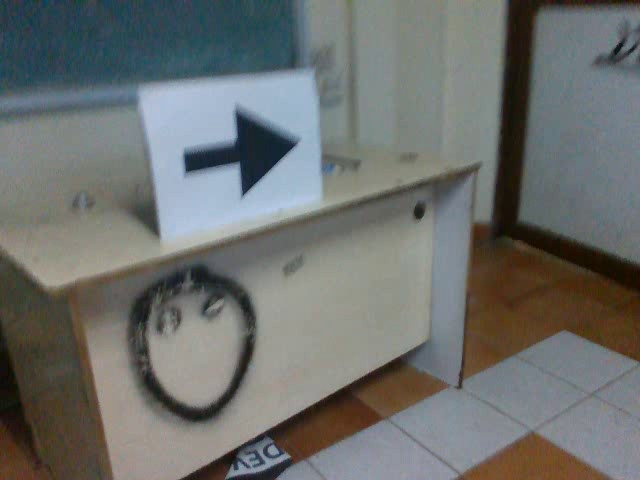Right: (167, 98, 298, 194)
